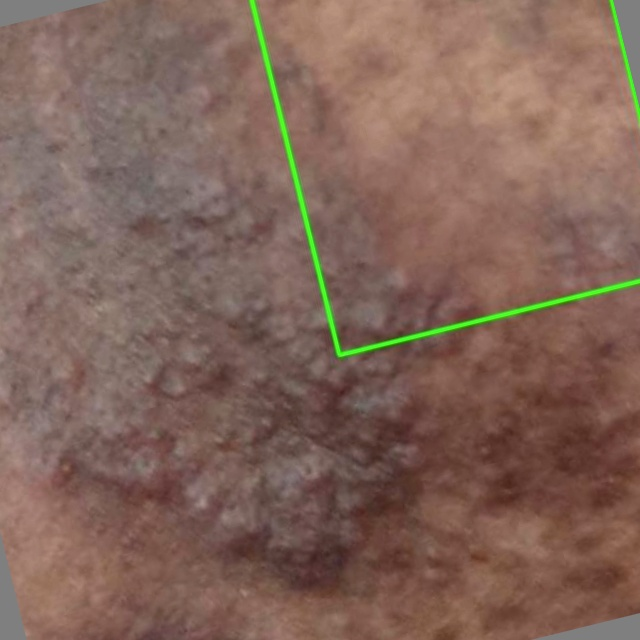Tinea Corporis: (251, 0, 639, 355)
